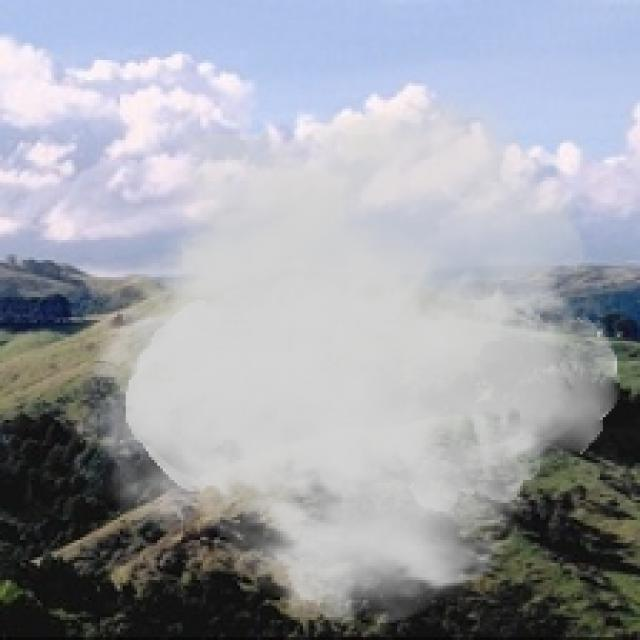smoke: (69, 86, 620, 631)
